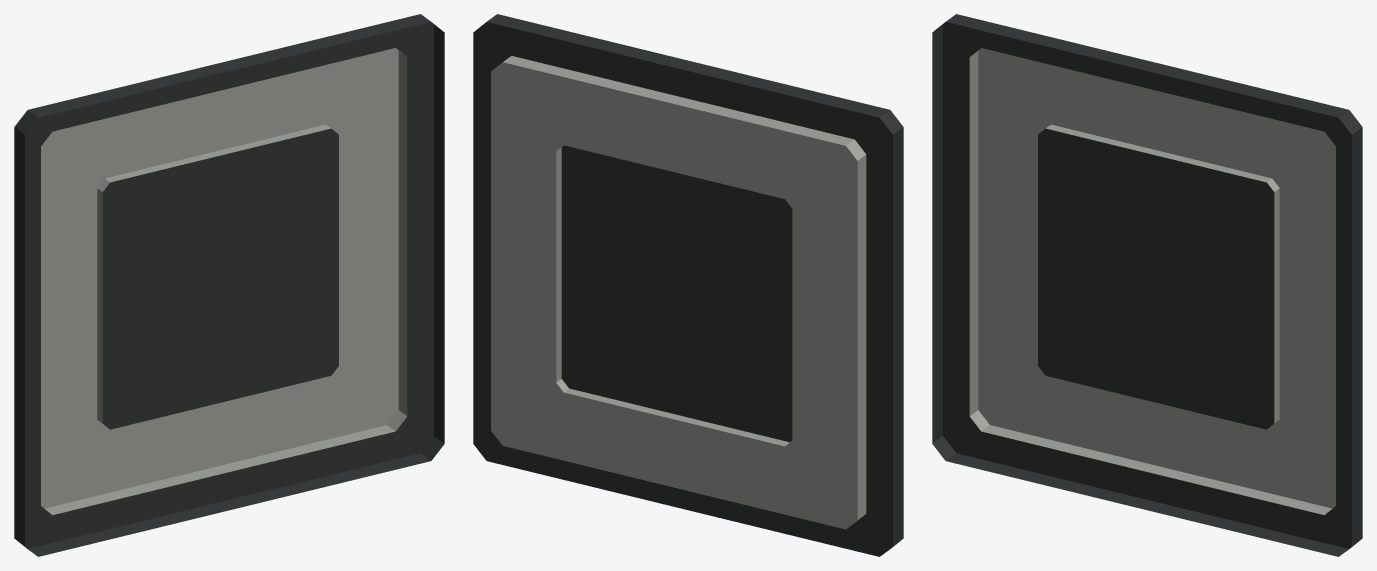
File: Waypoint 01.FBX
3 renders of one model, left to right at view 1: azimuth 30°, elevation 25°; view 2: azimuth 150°, elevation 25°; view 3: azimuth 330°, elevation 25°, orthographic.
Visible parts, largest first — view 1: Waypoint 01; view 2: Waypoint 01; view 3: Waypoint 01.
Boxes of the visible parts, <box> form: Waypoint 01: <box>14,14,444,556</box>; Waypoint 01: <box>473,14,903,556</box>; Waypoint 01: <box>932,14,1362,556</box>.
Bounding box in the file's own units: 85.17 × 85.17 × 6.85.
1 material, 1 textured.
